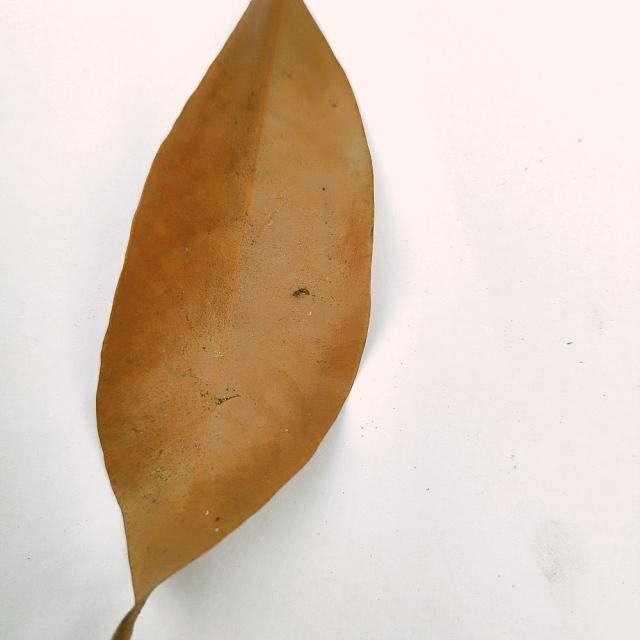Dry_Leaf-Lychee: (94, 0, 376, 639)
